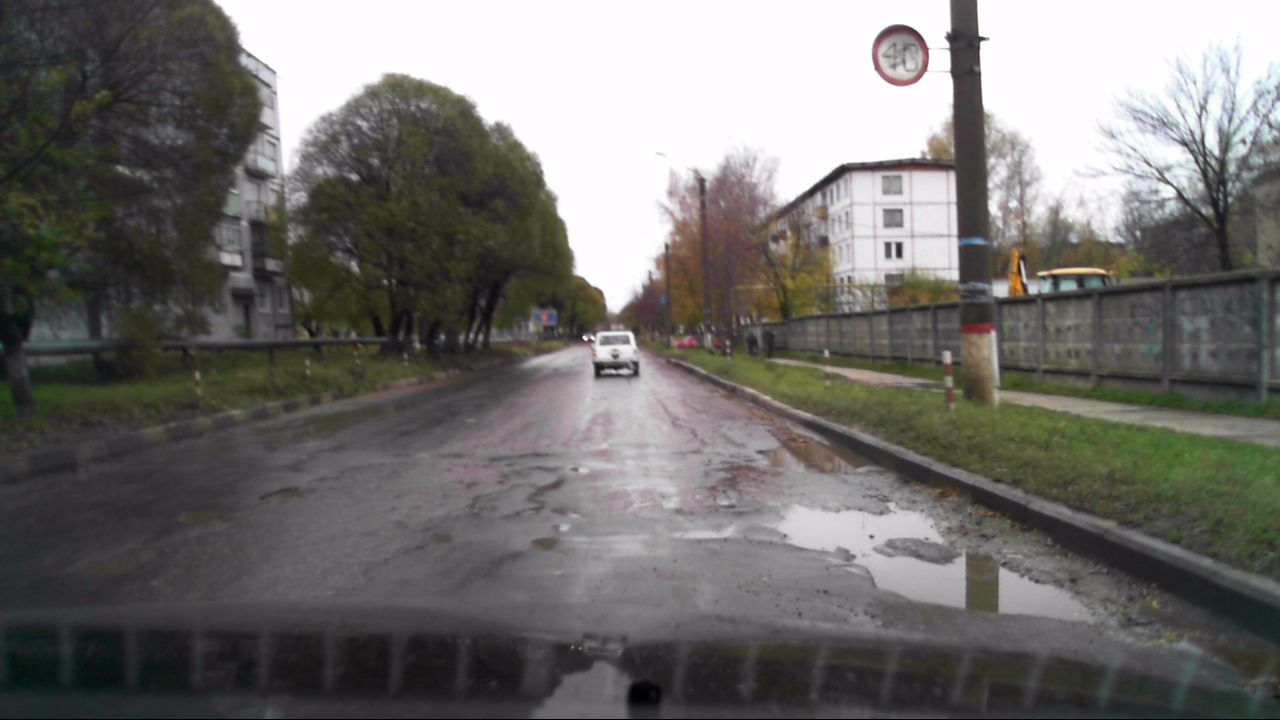speed_warning_40: (871, 26, 929, 89)
